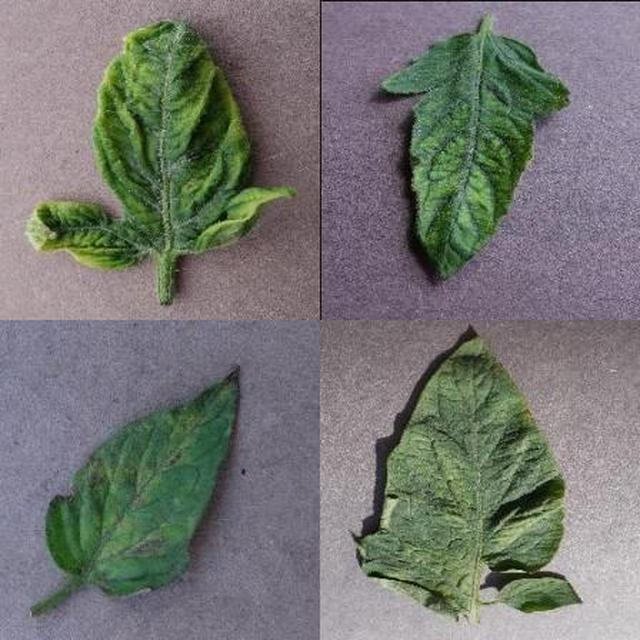Yellow Leaf Curl Virus: (204, 207, 640, 640)
